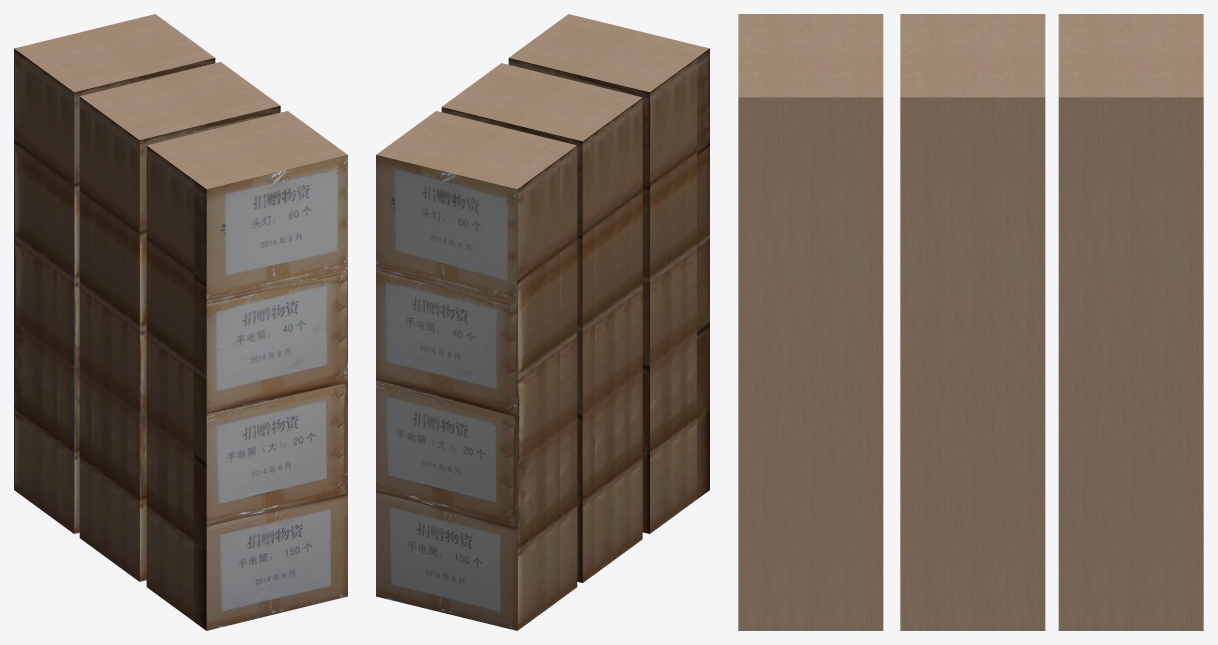
File: toudeng.FBX
3 renders of one model, left to right at view 1: azimuth 30°, elevation 25°; view 2: azimuth 150°, elevation 25°; view 3: azimuth 270°, elevation 25°, orthographic. The views are drawn at different scales.
Visible parts, largest first — view 1: 对象32; view 2: 对象32; view 3: 对象32.
Part boxes in pixels (x1,y1,x2,y2): 对象32: (14,14,347,630); 对象32: (376,14,709,630); 对象32: (738,14,1203,630).
Bounding box in the file's own units: 0.3925 × 0.926 × 1.17.
